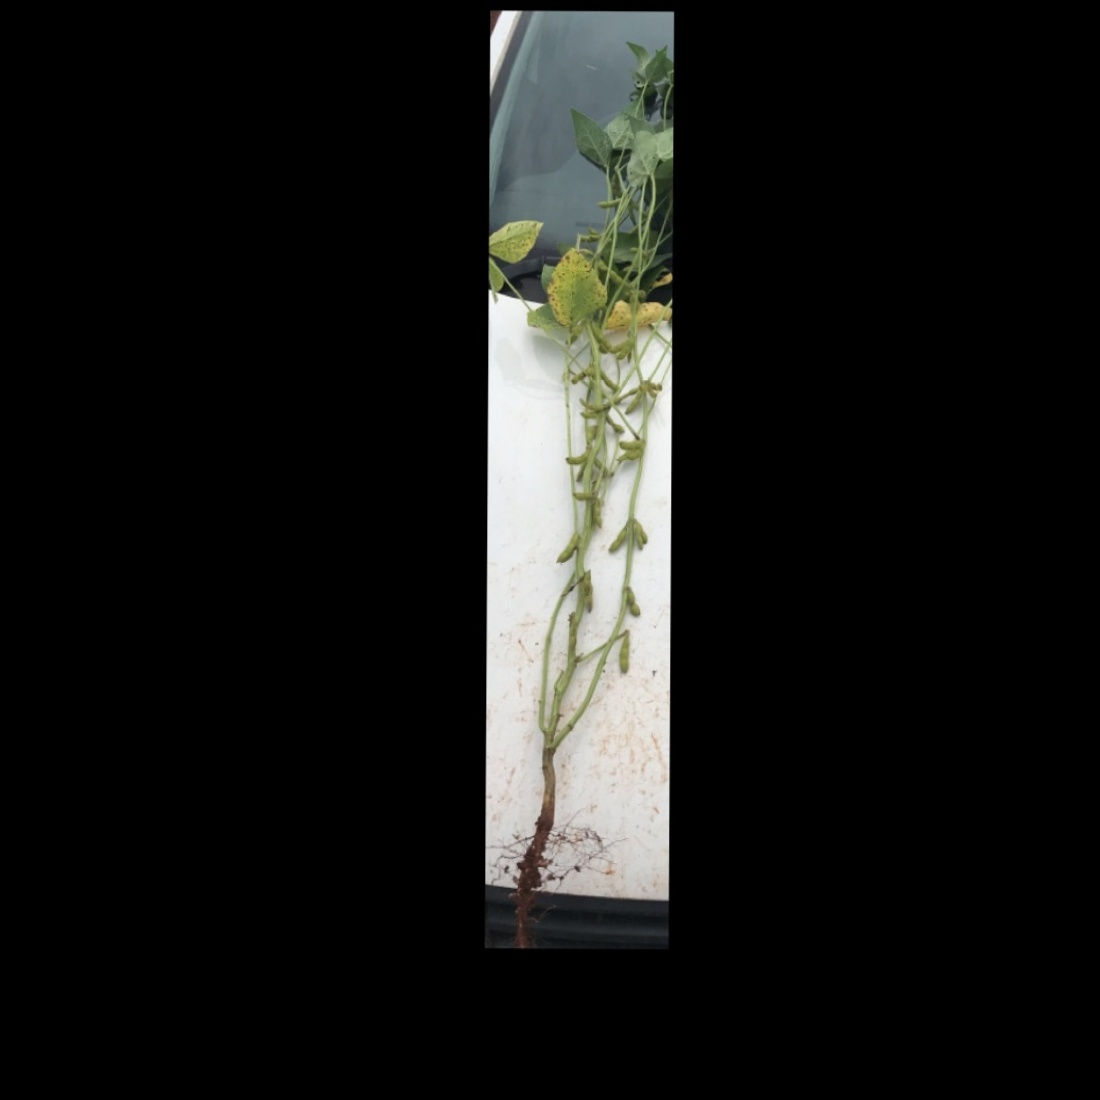pod: (553, 532, 577, 565), (616, 630, 632, 677), (624, 585, 644, 621), (607, 524, 628, 555), (623, 387, 644, 416), (599, 368, 622, 392), (612, 334, 633, 361), (614, 439, 644, 453), (564, 450, 589, 466)
soy: (486, 66, 669, 895)
